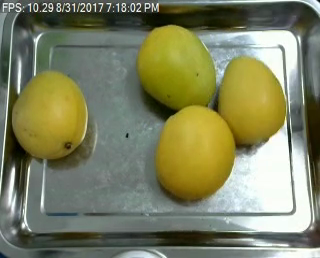Mango: (9, 69, 90, 158), (156, 107, 235, 198), (138, 24, 215, 110), (218, 56, 287, 145)
